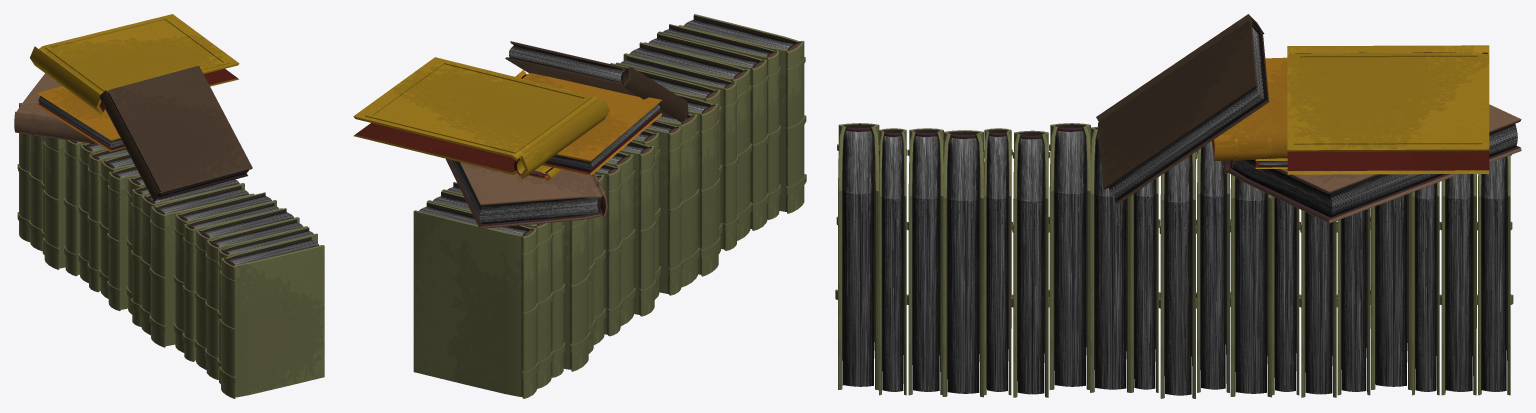
Rendered from Shelf2.fbx.
The picture shows the model from 3 angles, left to right: view 1: azimuth 30°, elevation 25°; view 2: azimuth 150°, elevation 25°; view 3: azimuth 270°, elevation 25°; orthographic projection. The views are drawn at different scales.
Visible parts, largest first — view 1: pCube1 (×6), pCube68, pCube12, pCube65 (×5), pCube64 (×5), pCube10 (×3), pages4 (×4), pCube71, pCube15, pages2 (×2), pages5 (×2), pages11 (+1 smaller); view 2: pCube10 (×3), pCube1 (×6), pCube12, pCube64 (×5), pCube65 (×5), pCube71, pCube15, pCube68, pages13, pages4 (×2), pages8, pages2 (×2) (+3 smaller); view 3: pages4 (×6), pages2 (×5), pCube12, pages5 (×5), pages1 (×3), pCube1 (×6), pCube68, pCube65 (×5), pCube64 (×5), pCube10 (×3), pages13, pCube15 (+2 smaller).
Part boxes in pixels (x1,y1,x2,y2): pCube1 (×6): (43,137,324,398); pCube68: (99,65,252,201); pCube12: (30,14,239,114); pCube65 (×5): (29,135,308,379); pCube64 (×5): (41,136,317,383); pCube10 (×3): (17,103,139,310); pages4 (×4): (150,179,319,264); pCube71: (14,73,125,148); pCube15: (37,86,125,151); pages2 (×2): (184,196,303,246); pages5 (×2): (192,205,313,253); pages11: (38,96,124,148); pCube10 (×3): (413,141,656,398); pCube1 (×6): (563,14,806,371); pCube12: (353,57,609,179); pCube64 (×5): (442,24,781,377); pCube65 (×5): (427,33,768,388); pCube71: (446,158,607,228); pCube15: (515,70,662,175); pCube68: (505,41,688,121); pages13: (450,160,598,224); pages4 (×2): (629,19,793,77); pages8: (509,44,623,81); pages2 (×2): (645,37,756,96); pages4 (×6): (843,131,1406,393); pages2 (×5): (913,136,1472,395); pCube12: (1287,45,1489,174); pages5 (×5): (882,136,1436,391); pages1 (×3): (1201,141,1506,391); pCube1 (×6): (835,123,1411,397); pCube68: (1096,14,1268,204); pCube65 (×5): (906,128,1477,398); pCube64 (×5): (878,128,1441,395); pCube10 (×3): (1196,148,1513,395); pages13: (1232,124,1517,217); pCube15: (1211,57,1287,161).
Bounding box in the file's own units: 1.14 × 1.24 × 2.45.
